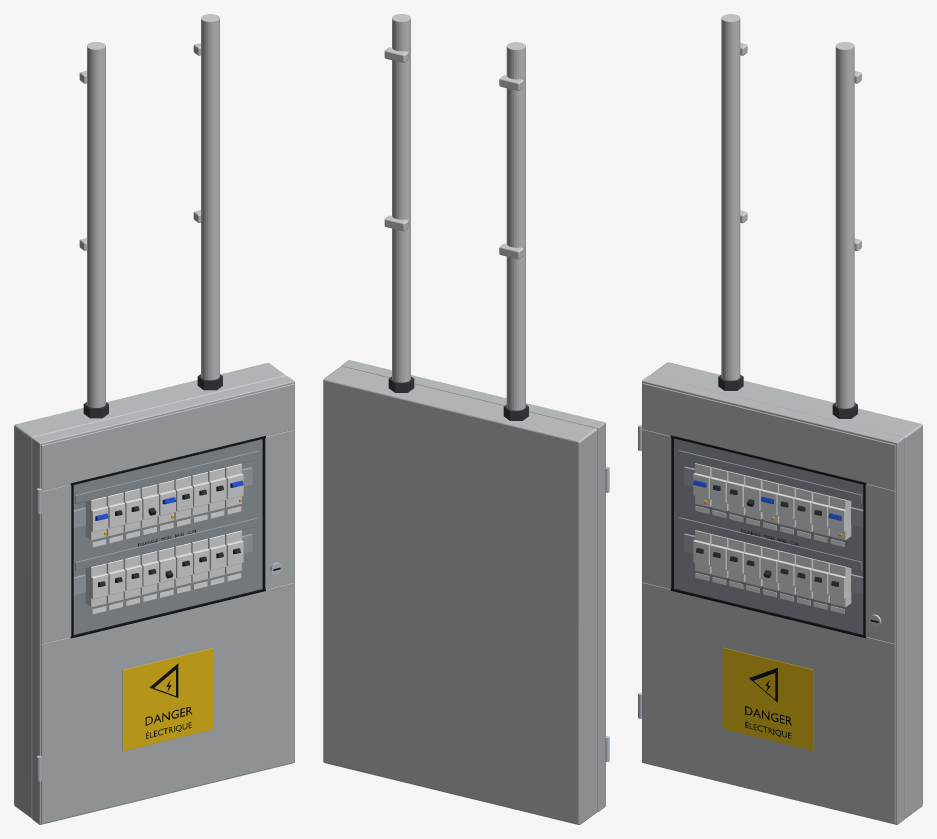
The model's file is electrical-panel.glb.
The picture shows the model from 3 angles, left to right: view 1: azimuth 30°, elevation 25°; view 2: azimuth 150°, elevation 25°; view 3: azimuth 330°, elevation 25°; orthographic projection.
Parts seen in each view (by area): view 1: ElectricalPanel; view 2: ElectricalPanel; view 3: ElectricalPanel.
Part boxes in pixels (left/top/right/bottom): ElectricalPanel: left=14, top=14, right=294, bottom=824; ElectricalPanel: left=323, top=14, right=609, bottom=824; ElectricalPanel: left=638, top=14, right=922, bottom=824.
Size of the model in its own units: 0.566 by 1.57 by 0.1129.
